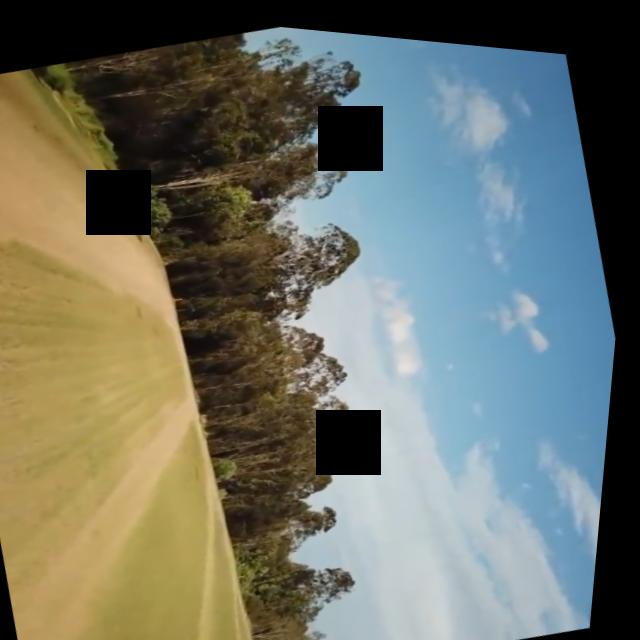Tree: (89, 26, 381, 191), (124, 106, 380, 242), (52, 4, 304, 114), (168, 195, 388, 320), (206, 403, 368, 517), (197, 329, 367, 423), (159, 259, 332, 349), (243, 534, 382, 640), (203, 369, 366, 454), (148, 183, 305, 267), (234, 473, 369, 570), (194, 298, 341, 387)
